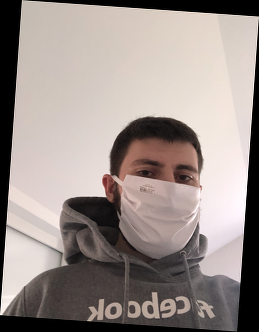with_mask: (115, 153, 200, 260)
